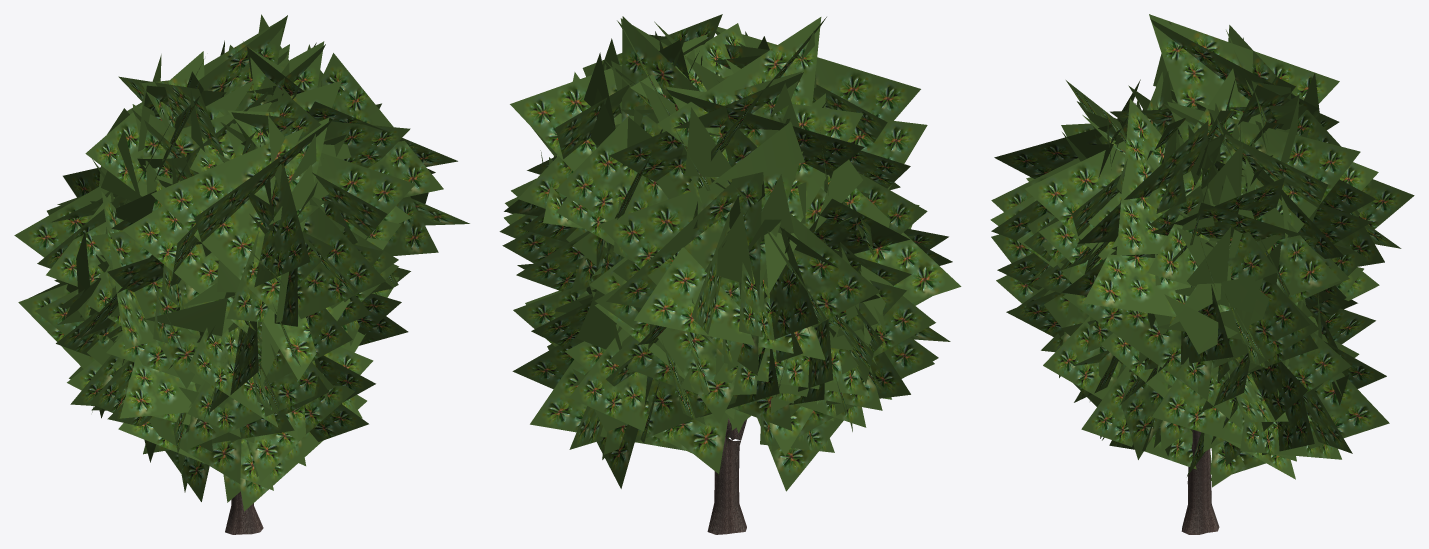
Rendered from Magnolia_Grandiflora_Autumn_Young.glb.
The picture shows the model from 3 angles, left to right: view 1: azimuth 30°, elevation 25°; view 2: azimuth 150°, elevation 25°; view 3: azimuth 270°, elevation 25°; orthographic projection. The views are drawn at different scales.
Parts seen in each view (by area): view 1: Magnolia_Grandiflora_Autumn_Young__LOD3; view 2: Magnolia_Grandiflora_Autumn_Young__LOD3; view 3: Magnolia_Grandiflora_Autumn_Young__LOD3.
Boxes of the visible parts, x1,y1,x2,y2 form: Magnolia_Grandiflora_Autumn_Young__LOD3: (14,14,469,534); Magnolia_Grandiflora_Autumn_Young__LOD3: (499,14,961,534); Magnolia_Grandiflora_Autumn_Young__LOD3: (990,14,1414,534).
Bounding box in the file's own units: 8.91 × 10.68 × 8.52.
2 materials, 2 textured.
